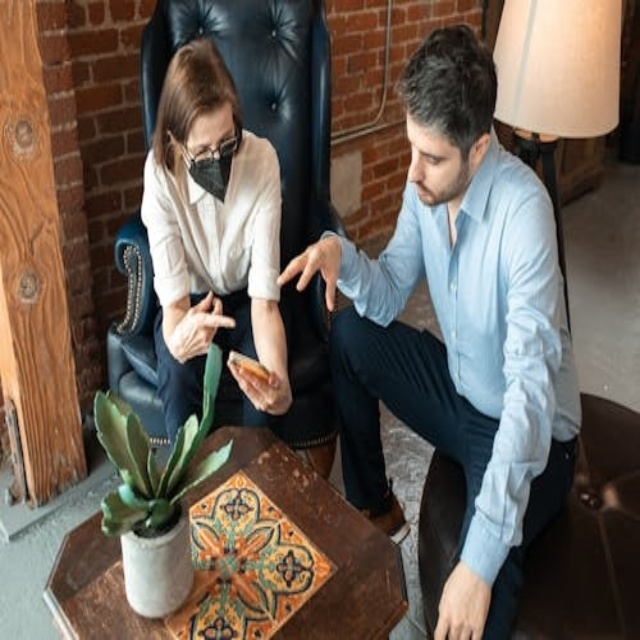Gafas: (179, 125, 241, 166)
Mascara: (183, 137, 237, 204)
Sin_gafas: (401, 127, 453, 169)
Sin_guantes: (275, 225, 343, 321), (429, 552, 493, 634), (170, 291, 236, 365), (227, 348, 288, 415)
Sin_mascara: (408, 177, 444, 209)
